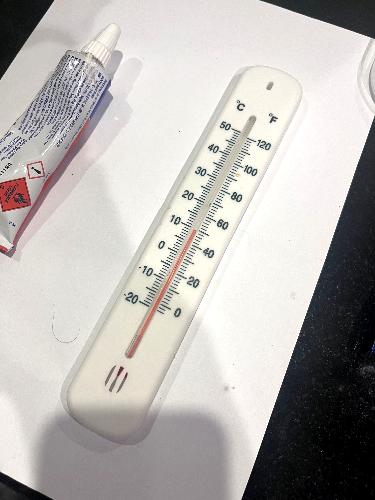thermo: (53, 49, 323, 445)
